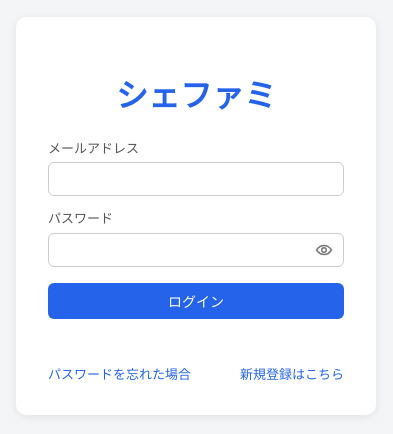
Test: LoginPage › 401エラー時はエラーメッセージを表示する
In the field labelled "メールアドレス": (196, 179) [48,162,344,196], type "taro@example.com"
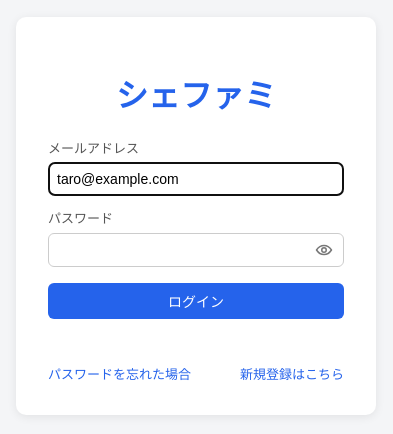
In the password field labelled "パスワード": (196, 250) [48,233,344,267], type "wrongpass1"
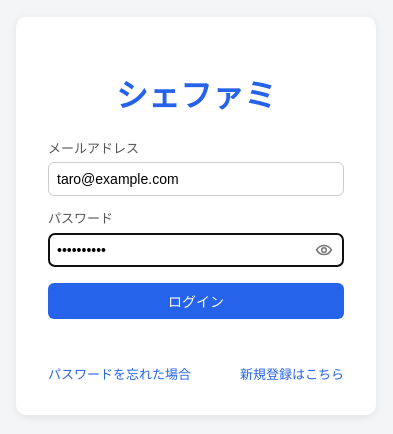
Click the button "ログイン": (196, 301) [48,283,344,319]
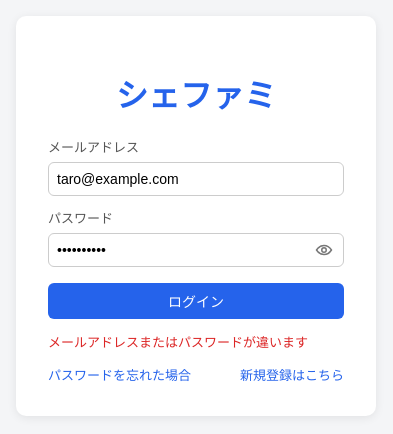
Check: the text "メールアドレスまたはパスワードが違います" is shown, box [48,332,344,351]
